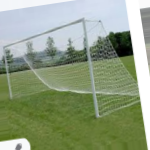goals: (2, 16, 137, 122)
